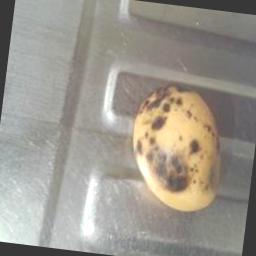Mango Rotten: (113, 70, 242, 229)
